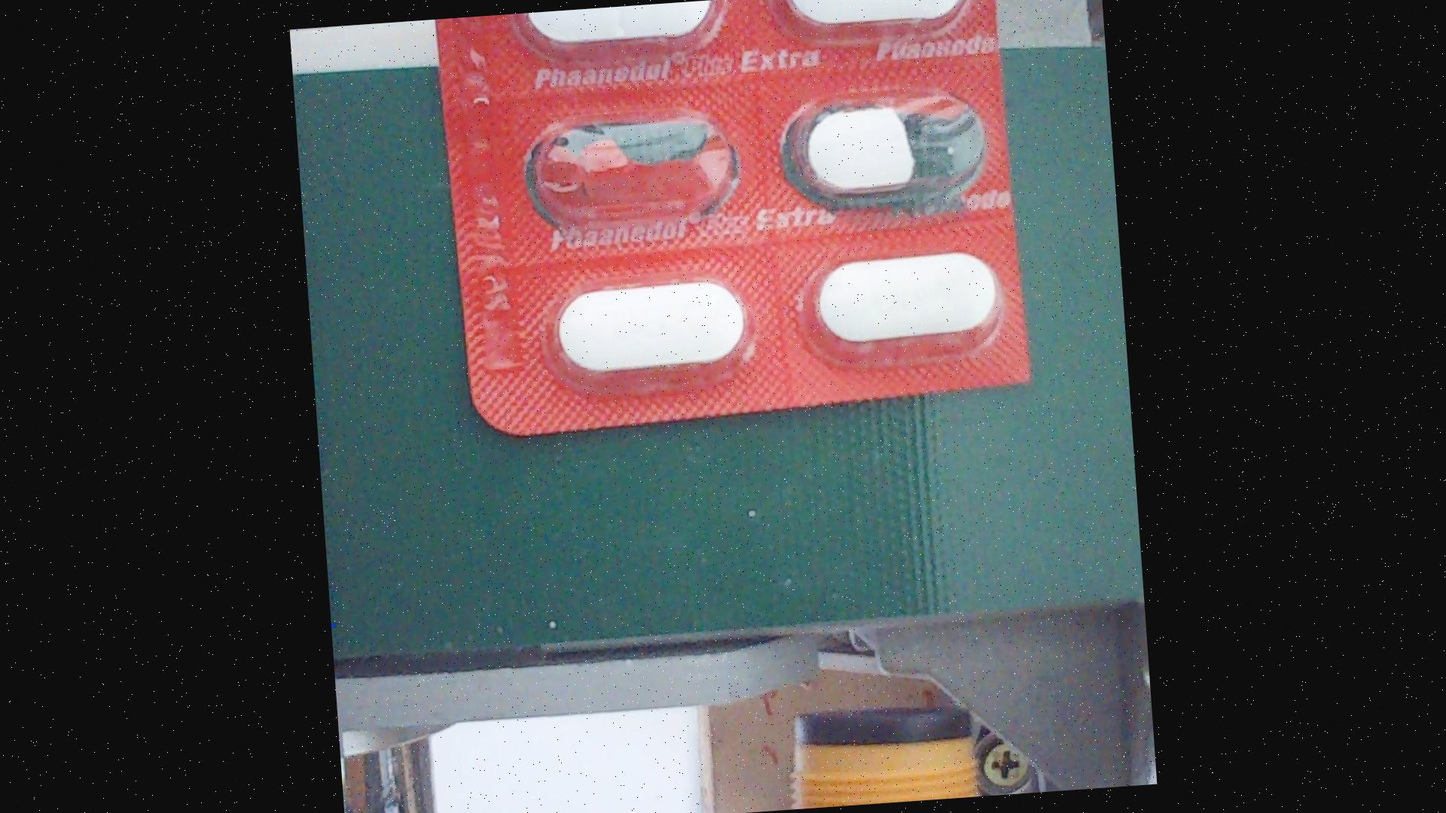Empty: (519, 102, 744, 236)
Full: (538, 262, 764, 396), (793, 233, 1019, 367), (518, 0, 735, 59), (761, 0, 977, 42)
Partial: (771, 83, 996, 217)
